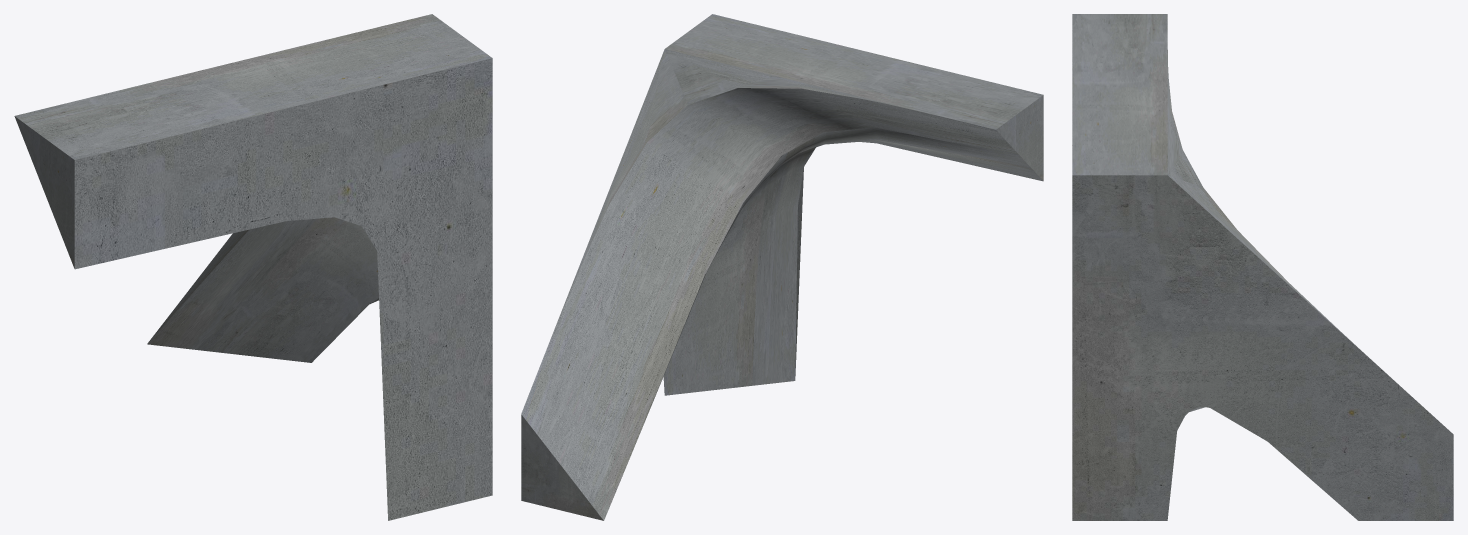
File: module_I4.fbx
3 renders of one model, left to right at view 1: azimuth 30°, elevation 25°; view 2: azimuth 150°, elevation 25°; view 3: azimuth 270°, elevation 25°, orthographic. The views are drawn at different scales.
Parts seen in each view (by area): view 1: modules; view 2: modules; view 3: modules.
Part boxes in pixels (x1,y1,x2,y2): modules: (14, 14, 492, 520); modules: (521, 14, 1043, 520); modules: (1072, 14, 1453, 520).
Bounding box in the file's own units: 1000 × 1000 × 1000.
1 material, 1 textured.
